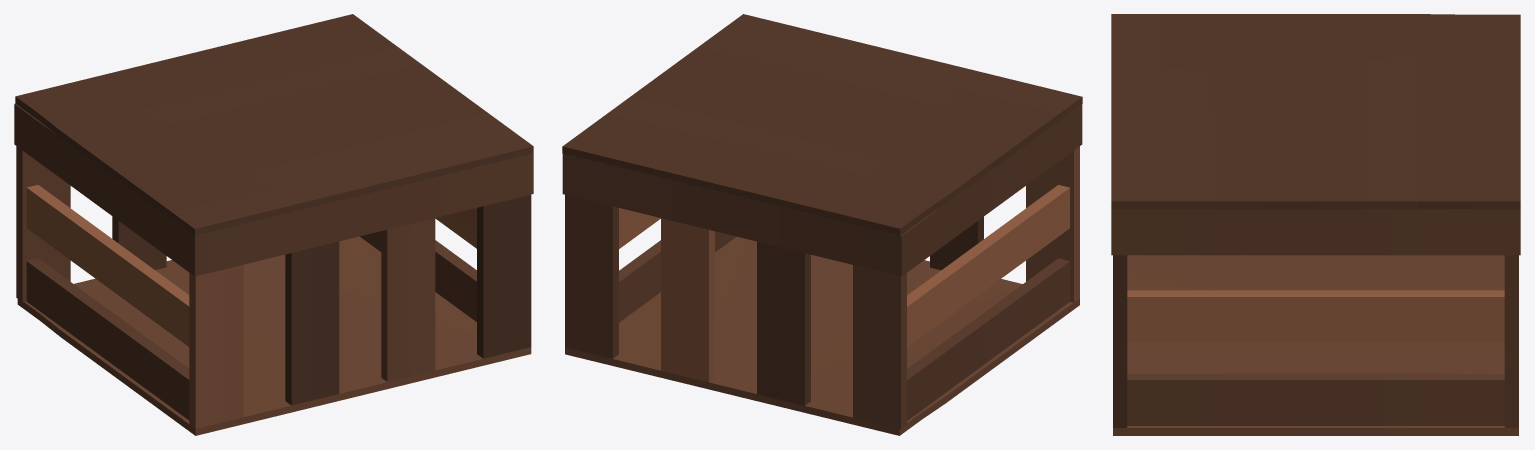
Rendered from Med Cherry Crate Closed.fbx.
3 renders of one model, left to right at view 1: azimuth 30°, elevation 25°; view 2: azimuth 150°, elevation 25°; view 3: azimuth 270°, elevation 25°, orthographic. The views are drawn at different scales.
Parts seen in each view (by area): view 1: Med Cherry Crate Closed; view 2: Med Cherry Crate Closed; view 3: Med Cherry Crate Closed.
Part boxes in pixels (x1=…): Med Cherry Crate Closed: x1=14, y1=14, x2=533, y2=435; Med Cherry Crate Closed: x1=562, y1=14, x2=1082, y2=435; Med Cherry Crate Closed: x1=1111, y1=14, x2=1520, y2=435.
Size of the model in its own units: 122 by 192 by 208.
Materials: 1 (1 with a texture image).
